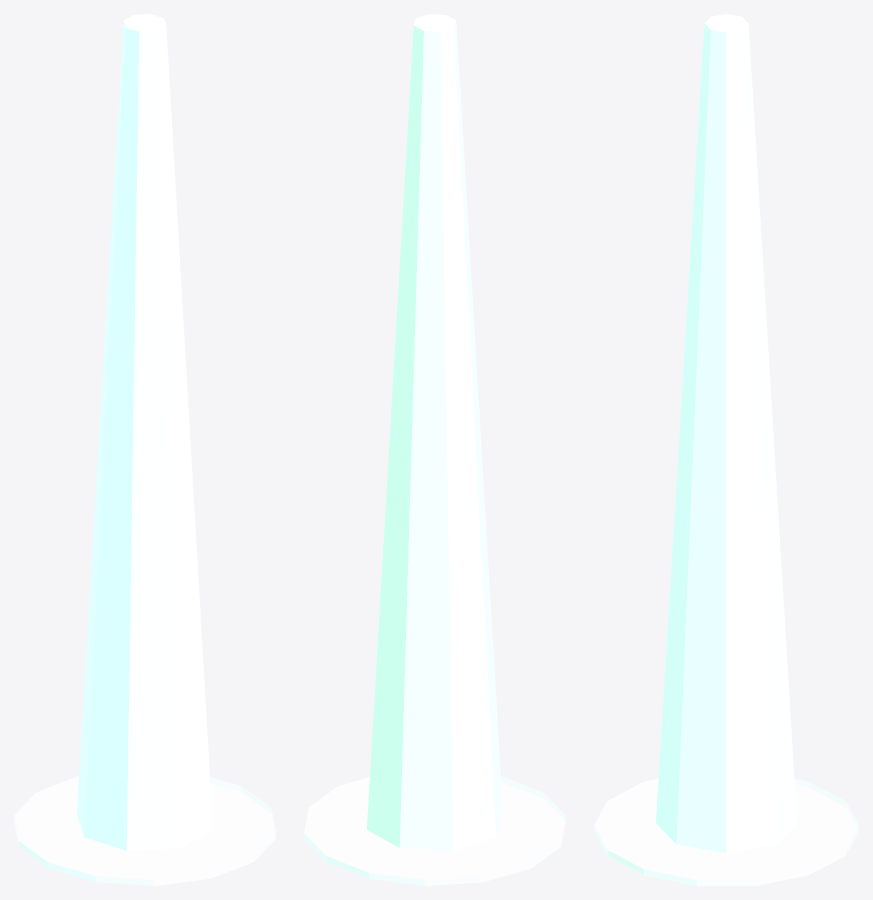
The model's file is fx_pickup_pillar_green.glb.
The picture shows the model from 3 angles, left to right: view 1: azimuth 30°, elevation 25°; view 2: azimuth 150°, elevation 25°; view 3: azimuth 270°, elevation 25°; orthographic projection.
Visible parts, largest first — view 1: fx_pickup_pillar_green; view 2: fx_pickup_pillar_green; view 3: fx_pickup_pillar_green.
Part boxes in pixels (x1,y1,x2,y2): fx_pickup_pillar_green: (14, 14, 275, 885); fx_pickup_pillar_green: (304, 14, 565, 885); fx_pickup_pillar_green: (594, 14, 858, 885).
Size of the model in its own units: 0.585 by 2.02 by 0.6.
